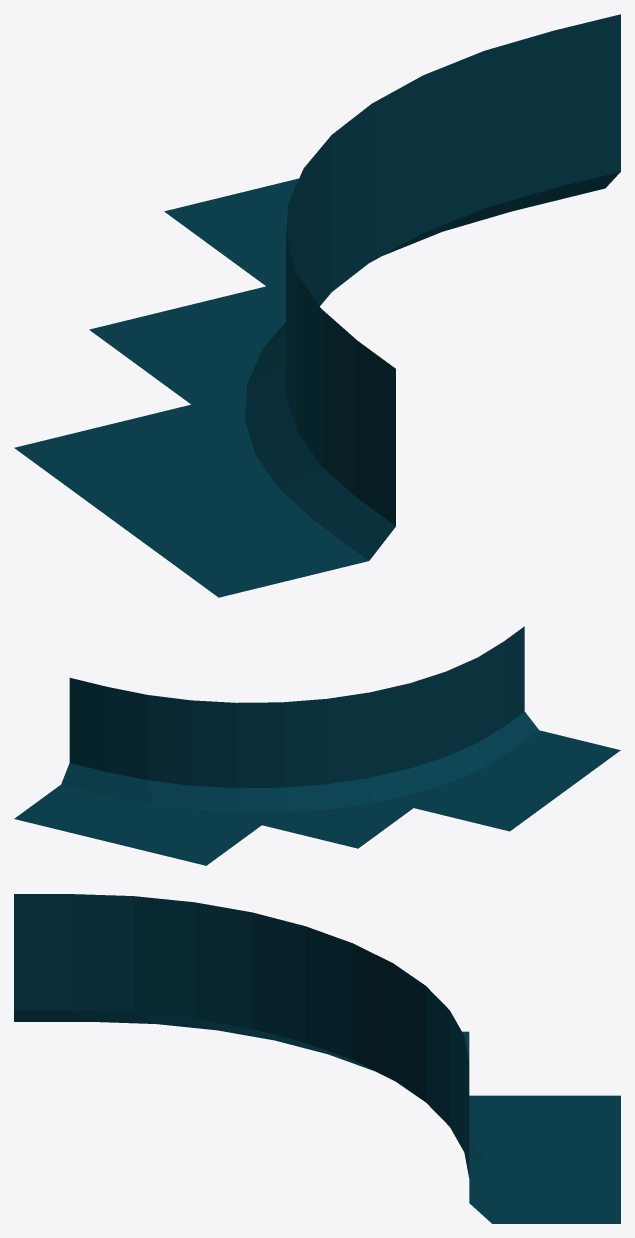
File: MB_Corner_Inner_Bottom_Wide.fbx
3 renders of one model, top to bottom at view 1: azimuth 30°, elevation 25°; view 2: azimuth 150°, elevation 25°; view 3: azimuth 270°, elevation 25°, orthographic. The views are drawn at different scales.
Visible parts, largest first — view 1: Cube.6042; view 2: Cube.6042; view 3: Cube.6042.
Boxes of the visible parts, x1,y1,x2,y2 form: Cube.6042: (14, 14, 620, 597); Cube.6042: (14, 626, 620, 865); Cube.6042: (14, 894, 620, 1223).
Bounding box in the file's own units: 8 × 2 × 8.
